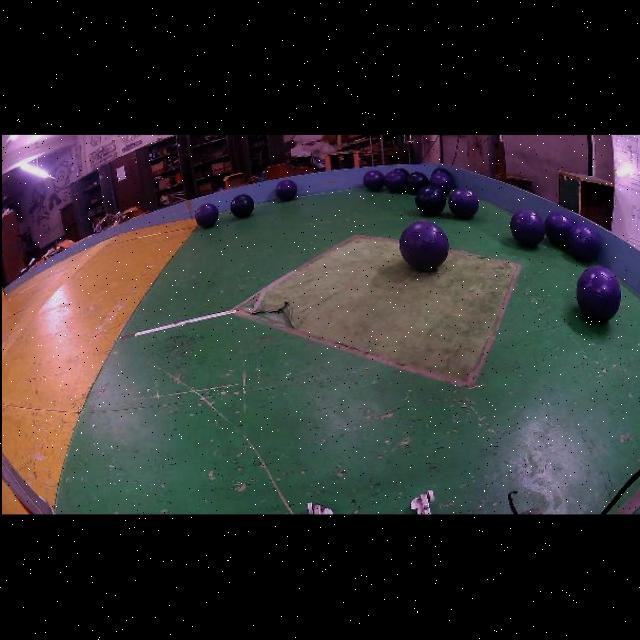B: (415, 184, 445, 215), (228, 192, 252, 216), (404, 170, 428, 192), (430, 166, 449, 174)
P: (397, 219, 448, 269), (576, 265, 619, 320), (510, 208, 544, 245), (566, 221, 598, 260), (544, 209, 573, 245), (448, 187, 478, 217), (194, 201, 217, 226), (428, 170, 451, 194), (383, 168, 405, 191), (273, 178, 296, 199), (362, 168, 383, 190)
